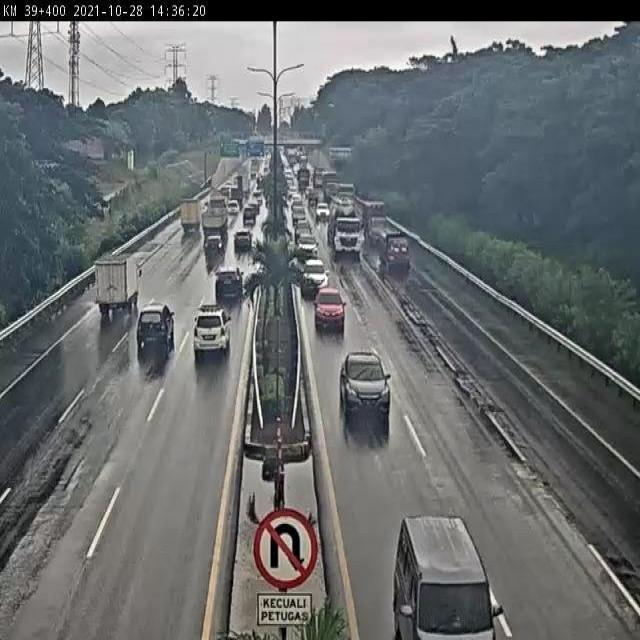big truck: (329, 196, 364, 260), (199, 198, 229, 238)
car: (342, 349, 395, 419), (191, 302, 233, 358), (134, 303, 176, 349), (312, 285, 348, 331), (215, 265, 244, 300), (302, 256, 328, 295), (231, 225, 253, 255), (201, 232, 224, 259), (297, 231, 319, 257)
small truck: (93, 252, 141, 317), (376, 224, 410, 273), (174, 197, 203, 243)
